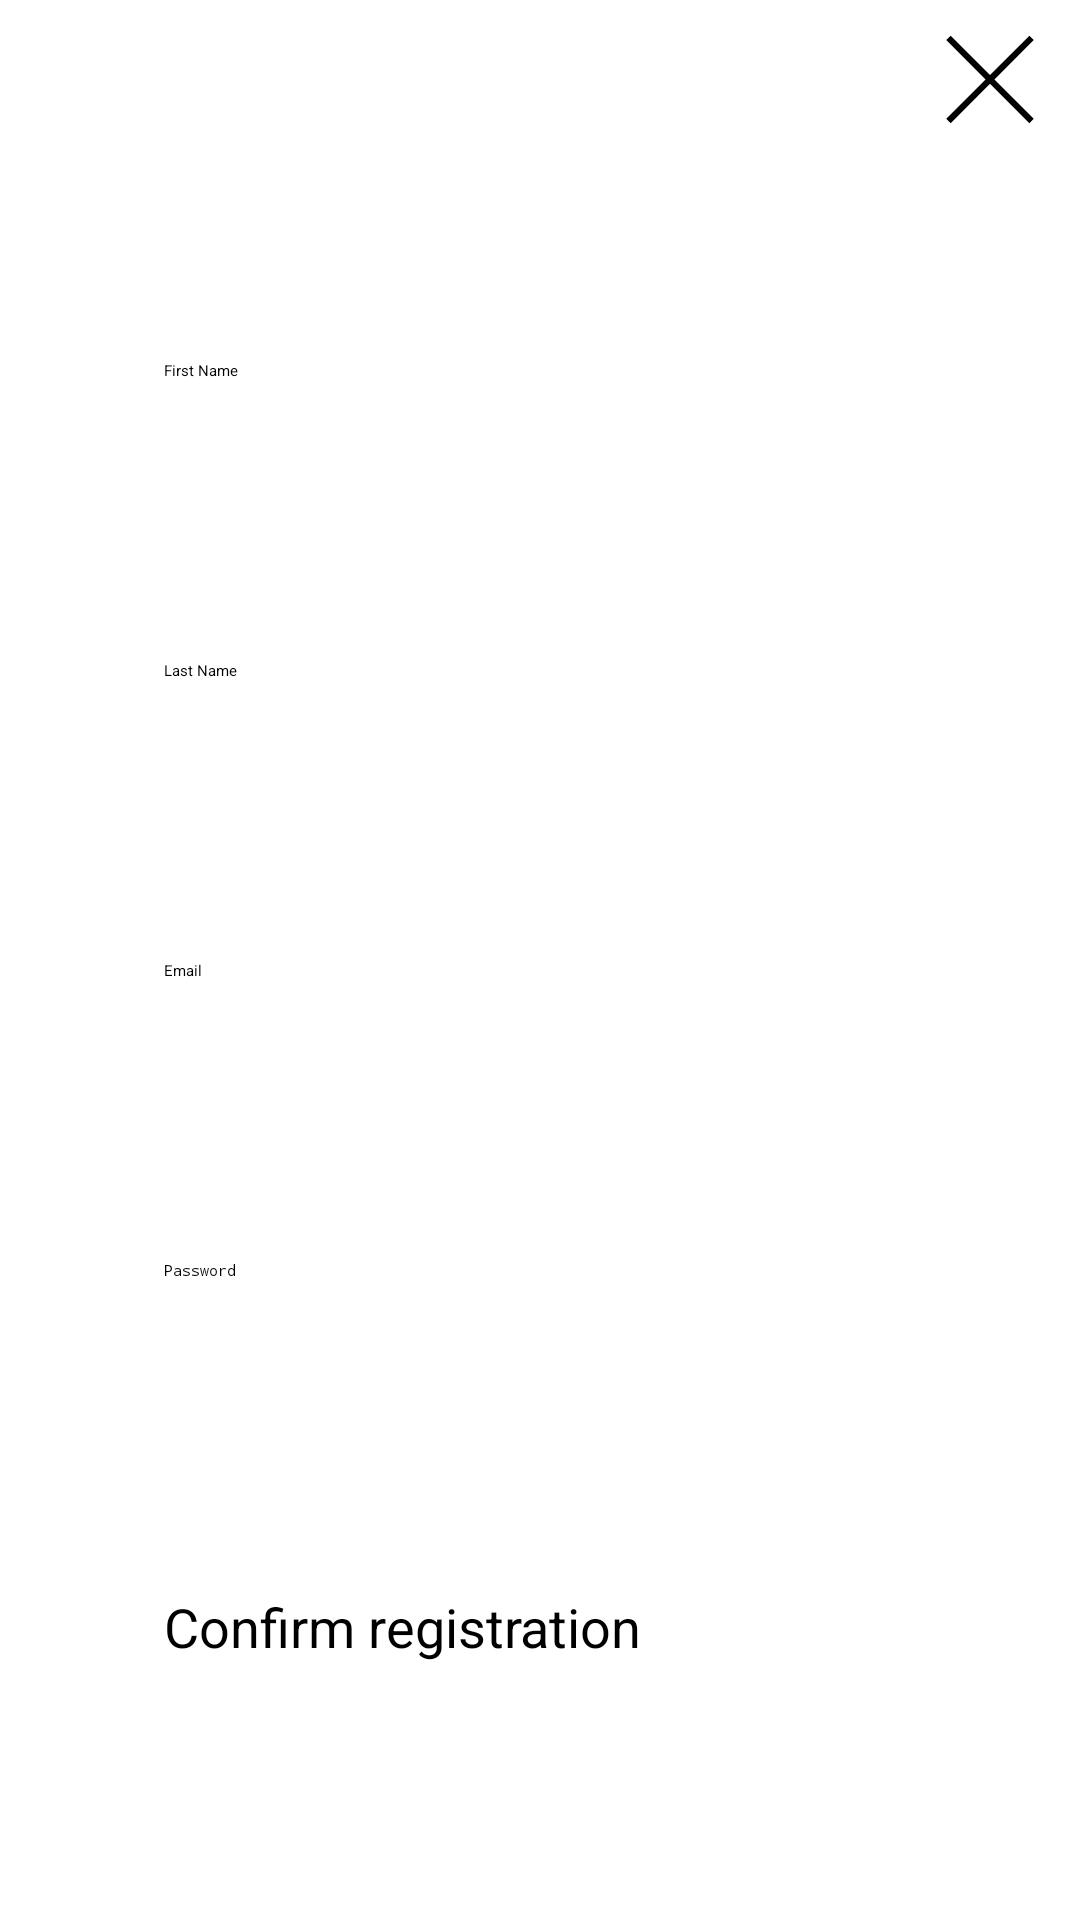

Locate icon controls on the screen. Image size 1080px×1920px, boxes as {"left": x1, "top": y1, "right": x2, "bottom": y2}.
X button: {"left": 946, "top": 36, "right": 1034, "bottom": 123}
